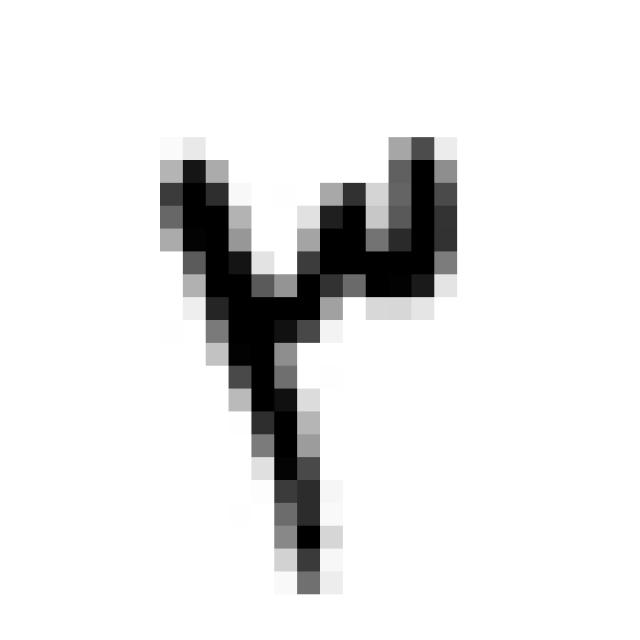3 -three-: (142, 108, 483, 610)
